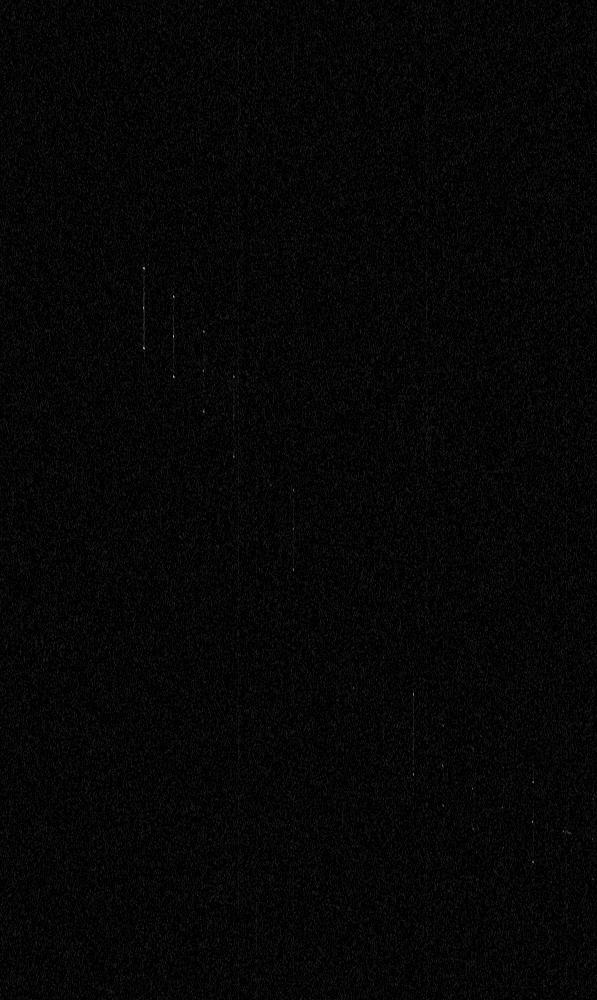signal: (0, 0, 596, 999)
